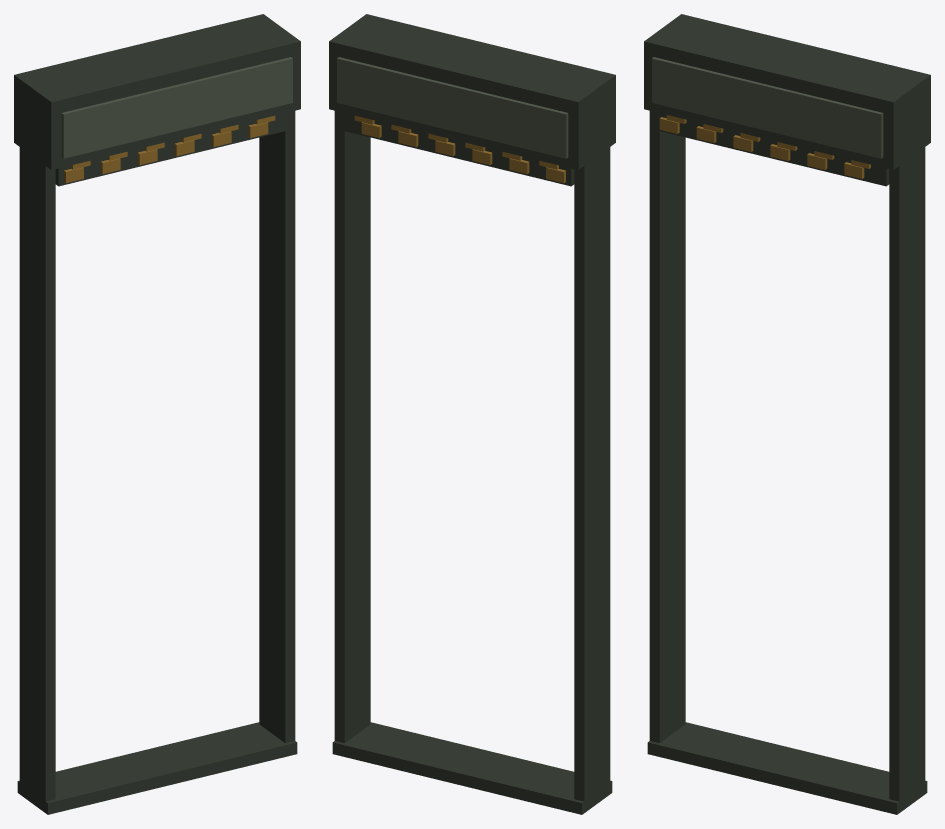
The model's file is CMU3DHybrisaHeavyShutterOpen.glb.
3 views of the same model, side by side, from view 1: azimuth 30°, elevation 25°; view 2: azimuth 150°, elevation 25°; view 3: azimuth 330°, elevation 25° (orthographic).
Parts seen in each view (by area): view 1: shutter guide (×2), upper roll housing, headbox face, threshold, raised bottom bar; view 2: shutter guide (×2), upper roll housing, headbox face back, threshold, raised bottom bar; view 3: shutter guide (×2), upper roll housing, headbox face, threshold, raised bottom bar.
Part boxes in pixels (box(x1,y1,x2,y2)): shutter guide (×2): box(19, 103, 295, 812); upper roll housing: box(14, 14, 300, 169); headbox face: box(61, 57, 292, 158); threshold: box(17, 722, 297, 814); raised bottom bar: box(55, 112, 287, 186); shutter guide (×2): box(334, 109, 610, 812); upper roll housing: box(329, 14, 615, 169); headbox face back: box(337, 57, 568, 158); threshold: box(332, 722, 612, 814); raised bottom bar: box(342, 112, 574, 186); shutter guide (×2): box(649, 106, 925, 812); upper roll housing: box(644, 14, 930, 169); headbox face: box(652, 57, 883, 158); threshold: box(647, 722, 927, 814); raised bottom bar: box(657, 112, 889, 186).
Size of the model in its own units: 1 by 2.74 by 0.29.
